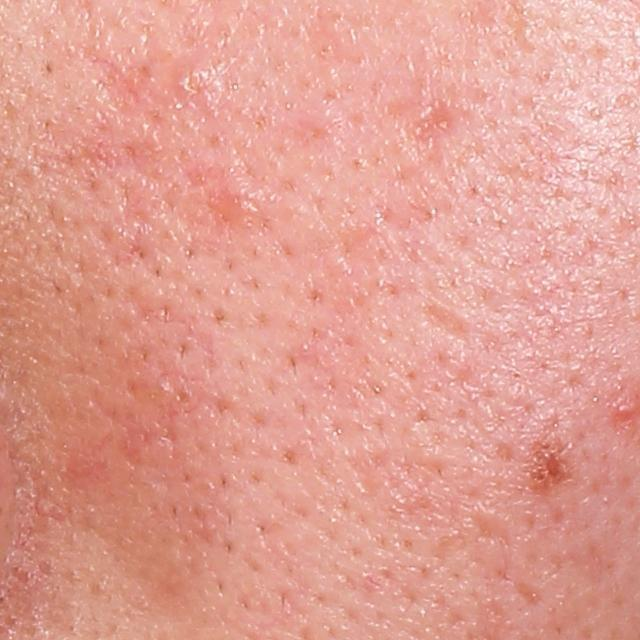atrophic_scar: (416, 299, 478, 349), (403, 100, 453, 147), (471, 509, 513, 549), (510, 579, 544, 611)
nevus: (527, 428, 574, 496)
